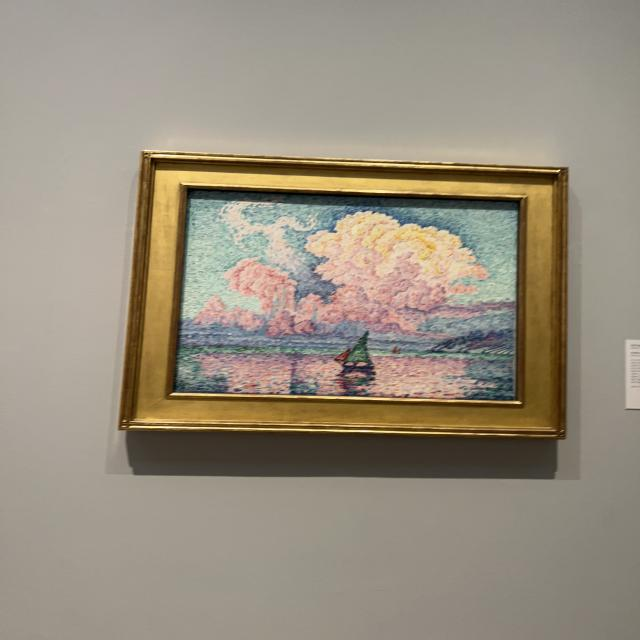sunrise: (174, 192, 520, 400)
